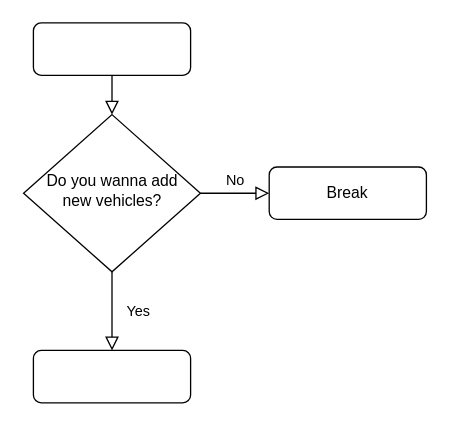
The diagram is 449 pixels wide and 426 high, and some of its shapes have lost their labels. Here are the shapes that lost their labels. From the top down, the centre of each, then its label:
At [111,48]: "Administrator".
At [111,376]: "Realice the method".
